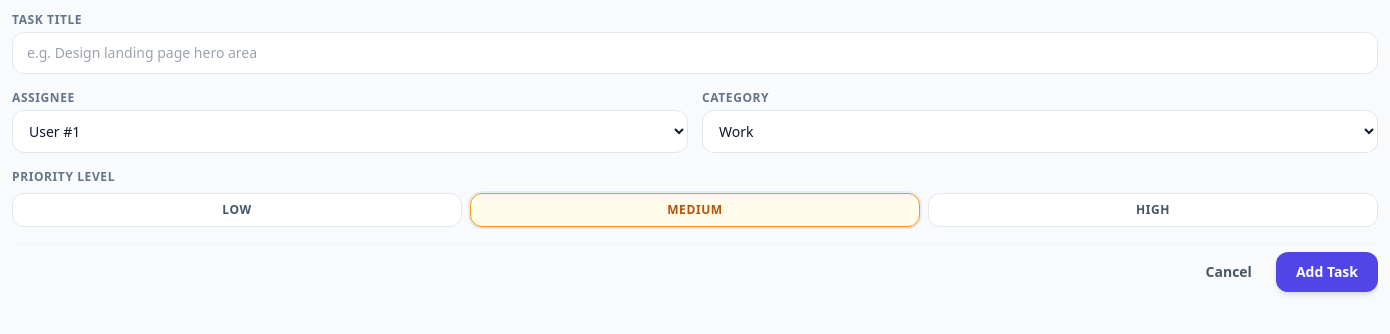
Scenario: TaskForm › shows a min-length error for titles under 3 characters
Type "ab" into the field labelled "Task title".
click(695, 53); type("ab")  # box left=12, top=32, right=1378, bottom=74
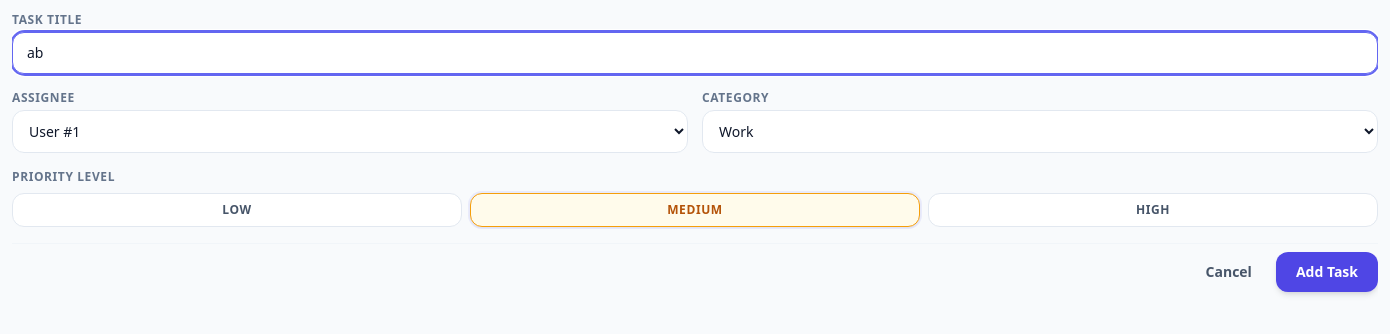
Click the button "Add Task".
click(1327, 272)  # box left=1276, top=252, right=1378, bottom=292
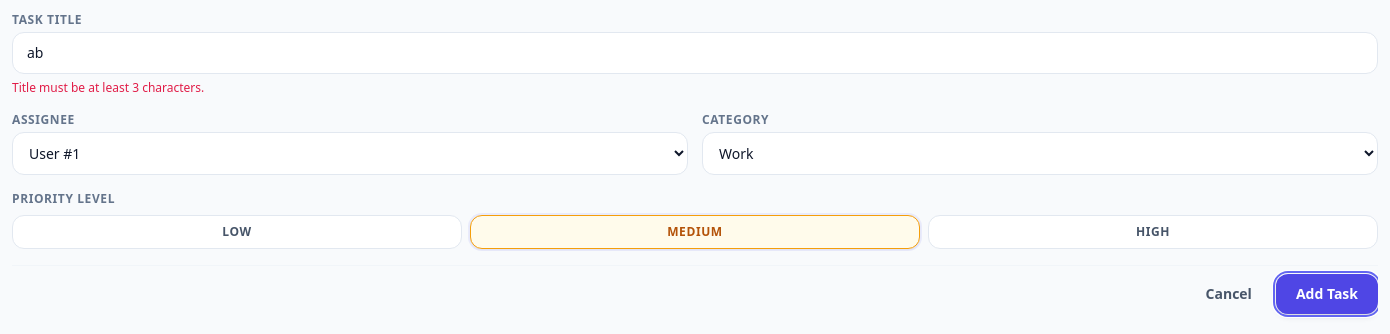
Expected: the text "Title must be at least 3 characters." is shown, left=12, top=79, right=204, bottom=96
